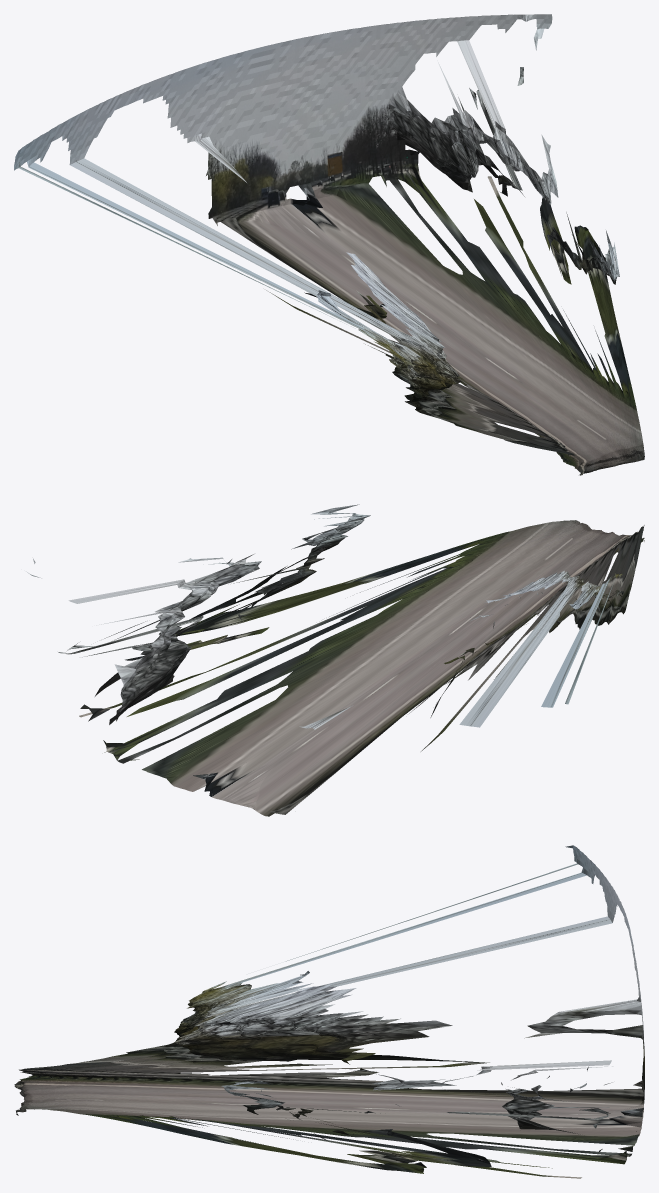
3 renders of one model, top to bottom at view 1: azimuth 30°, elevation 25°; view 2: azimuth 150°, elevation 25°; view 3: azimuth 270°, elevation 25°, orthographic. The views are drawn at different scales.
Visible parts, largest first — view 1: defaultobject; view 2: defaultobject; view 3: defaultobject.
Boxes of the visible parts, x1,y1,x2,y2 form: defaultobject: (14, 14, 644, 475); defaultobject: (26, 504, 644, 816); defaultobject: (14, 845, 644, 1178).
Bounding box in the file's own units: 39.12 × 12.09 × 44.65.
Materials: 1 (1 with a texture image).
